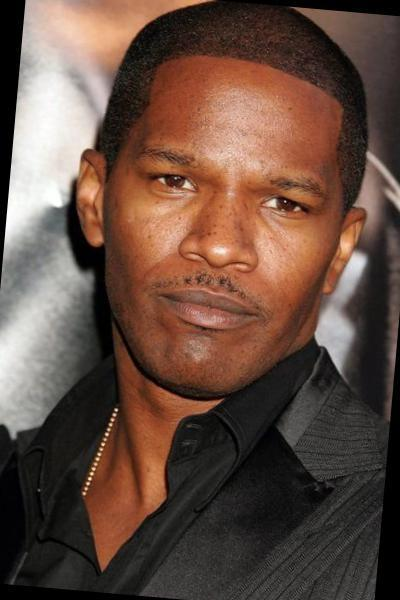Sober: (113, 45, 328, 382)
